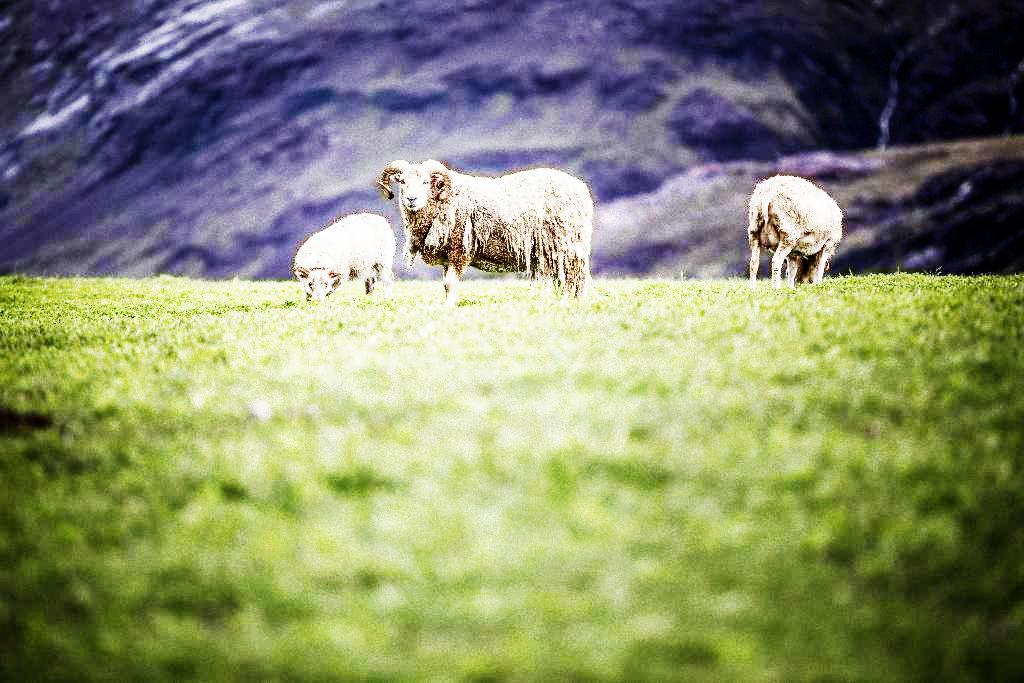Sheep: (378, 160, 604, 306), (744, 176, 840, 298), (292, 215, 394, 304)
